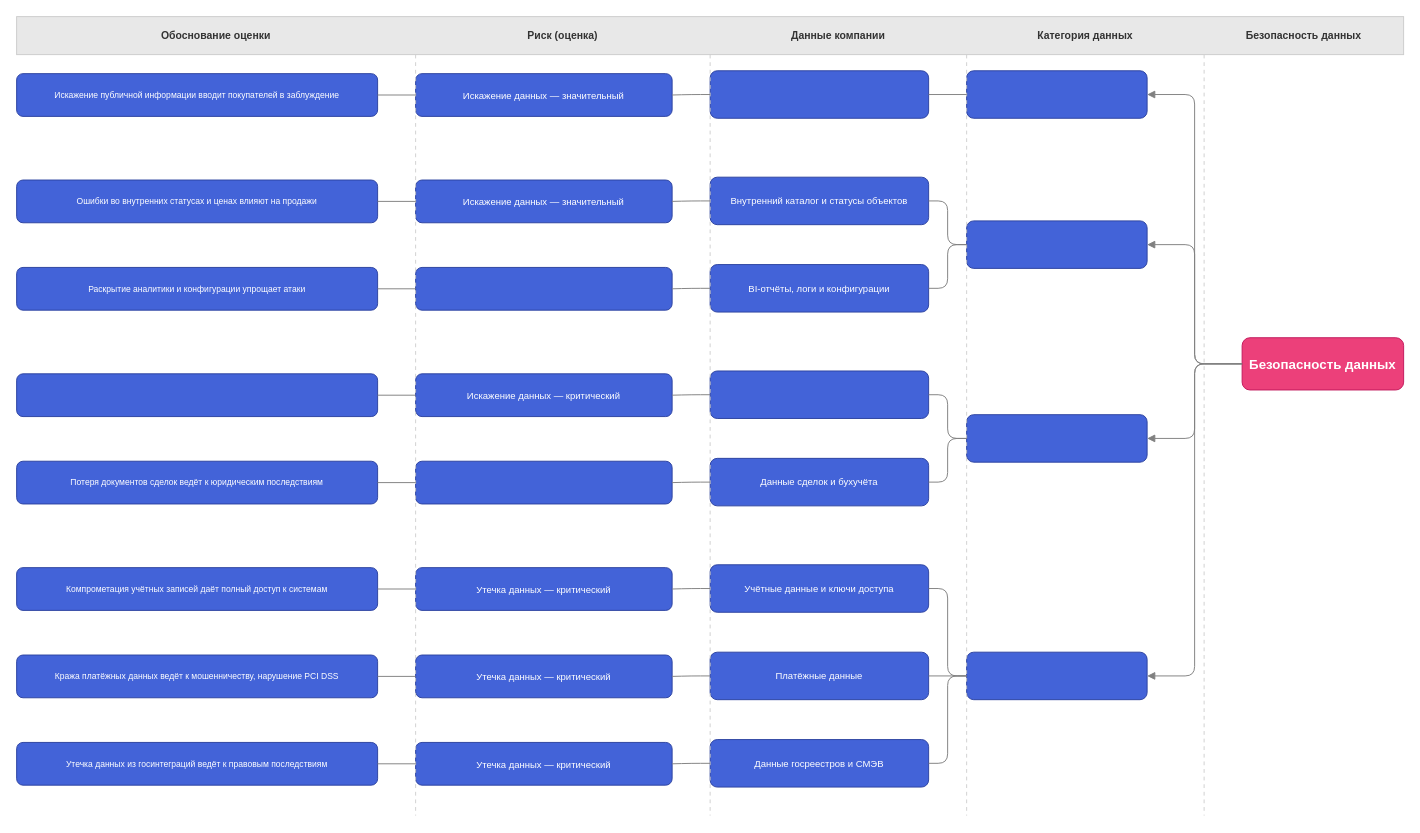
The diagram is 1420 pixels wide and 833 high, and some of its shapes have lost their labels. Each missing label, with the box of its shape:
Внутренние данные: (966, 220, 1147, 268)
Клиенты видят чужие данные в ЛК — нарушение разграничения доступа: (16, 373, 378, 417)
Конфиденциальные данные: (966, 414, 1147, 462)
Персональные данные клиентов и собственников: (709, 370, 929, 418)
Потеря данных — критический: (415, 460, 672, 504)
Публичная информация о ЖК и маркетинг: (709, 70, 929, 118)
Публичные данные: (966, 70, 1147, 118)
Секретные данные: (966, 651, 1147, 700)
Утечка данных — значительный: (415, 266, 672, 310)
